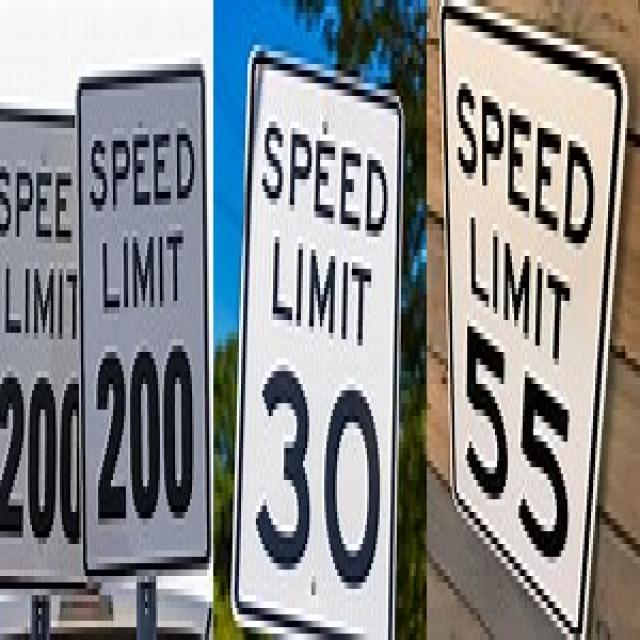speedLimit30: (245, 44, 401, 634)
speedLimit55: (439, 19, 621, 634)
